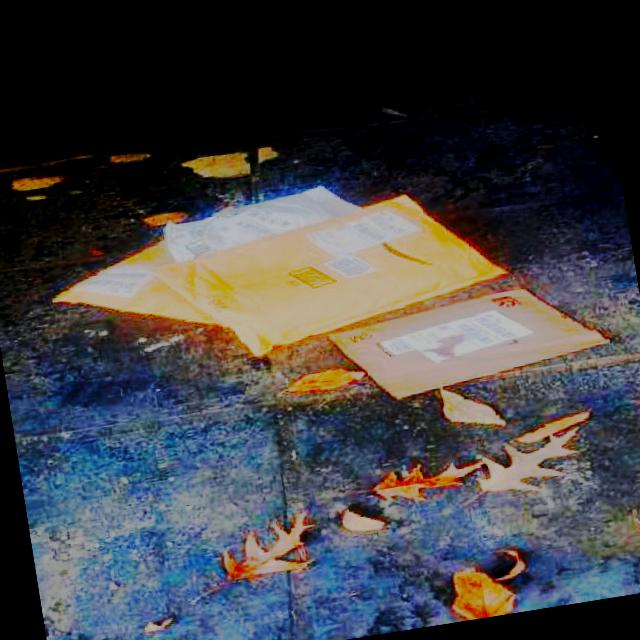Box: (146, 181, 514, 370), (327, 274, 614, 408), (46, 231, 230, 354), (164, 182, 366, 264)
